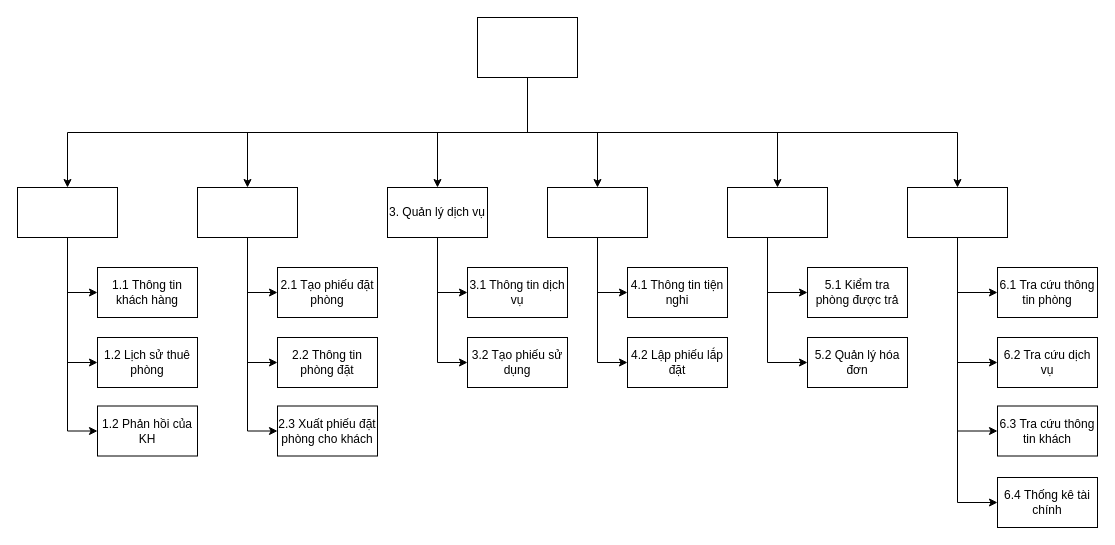
The diagram is 1115 pixels wide and 545 high, and some of its shapes have lost their labels. The shapes that lost their labels are listed below. From the top down, each one's box as (x1, y1, x2, y2) in pixels, then its label:
(476, 16, 578, 78): Quản lý khách sạn
(16, 186, 118, 238): 1. Quản lý khách hàng
(196, 186, 298, 238): 2. Quản lý thuê phòng
(546, 186, 648, 238): 4. Quản lý tiện nghi
(726, 186, 828, 238): 5. Quản lý trả phòng
(906, 186, 1008, 238): 6. Tra cứu và thống kê
